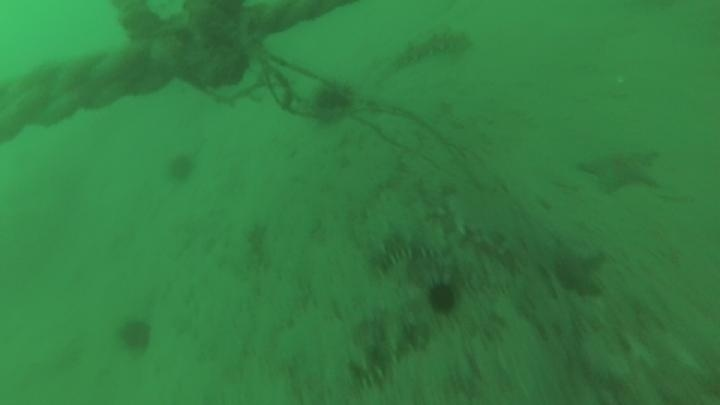echinus: (310, 77, 356, 118), (115, 316, 155, 356), (424, 279, 461, 318), (164, 151, 198, 185)
holothurian: (344, 306, 428, 390), (366, 222, 449, 276), (390, 25, 474, 69)
starfish: (575, 143, 664, 196), (546, 246, 610, 301)
